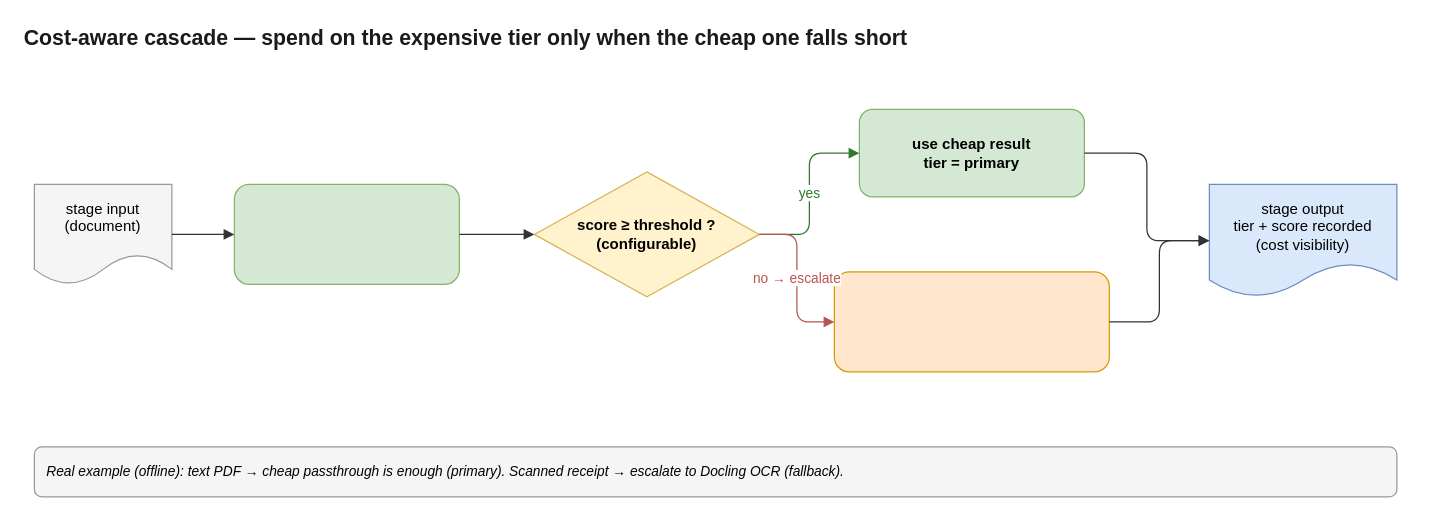
This 1443x519 diagram has some shape labels left out. The shapes that lost their labels are listed below. From the top down, each one's centre as x and y in pixels, then its label:
(x=346, y=233): CHEAP tier passthrough / small model (low cost)
(x=971, y=321): STRONG tier (fallback) Docling OCR / VLM / large model (higher cost)
